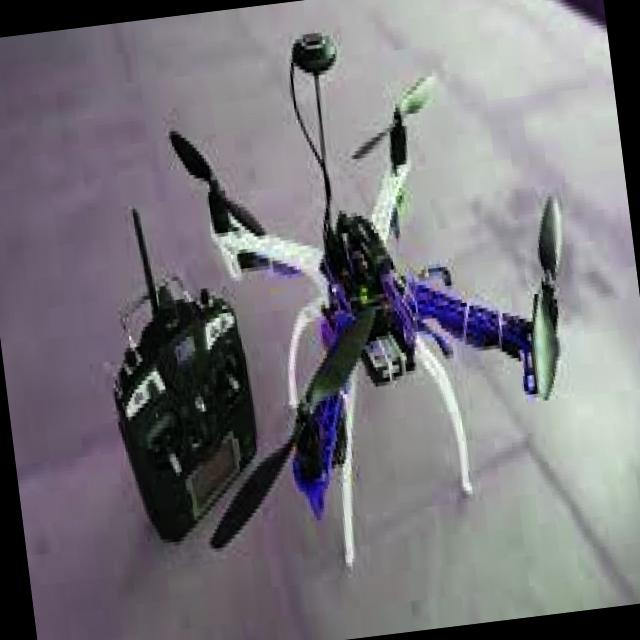drone: (148, 62, 612, 590)
